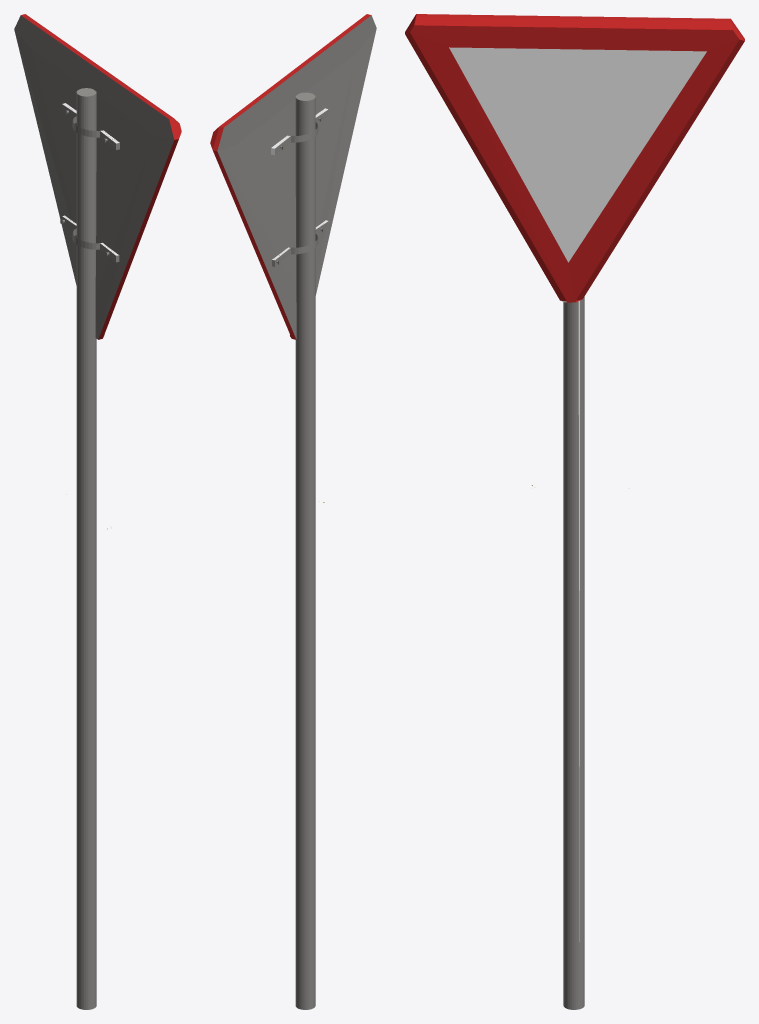
Rendered from non_priority_sign.obj.
The picture shows the model from 3 angles, left to right: view 1: azimuth 30°, elevation 25°; view 2: azimuth 150°, elevation 25°; view 3: azimuth 270°, elevation 25°; orthographic projection. The views are drawn at different scales.
Visible parts, largest first — view 1: Plane; view 2: Plane; view 3: Plane.
Boxes of the visible parts, box(x1,y1,x2,y2) form: Plane: box(14, 14, 181, 1009); Plane: box(210, 14, 376, 1009); Plane: box(405, 14, 744, 1009).
Size of the model in its own units: 0.0586 by 1.88 by 0.5818.
